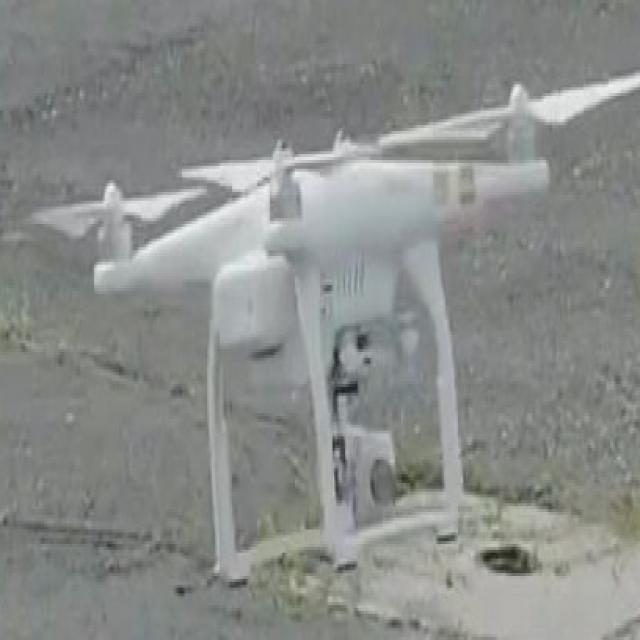drone: (39, 56, 640, 617)
